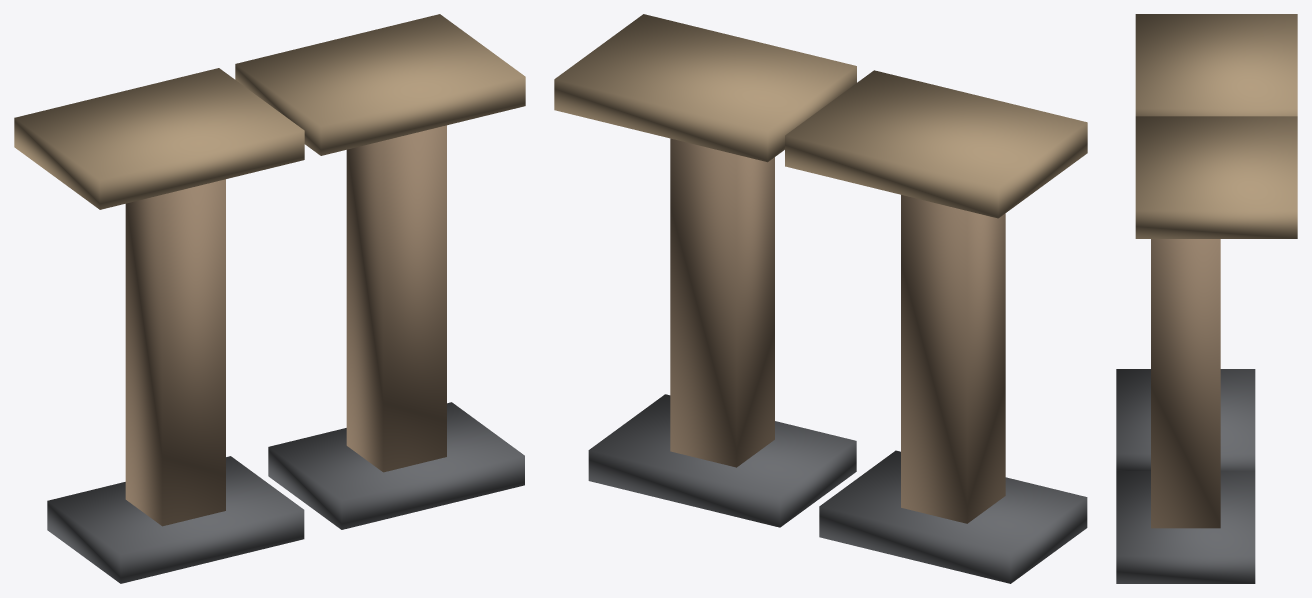
File: lectern__cluster.glb
3 renders of one model, left to right at view 1: azimuth 30°, elevation 25°; view 2: azimuth 150°, elevation 25°; view 3: azimuth 270°, elevation 25°, orthographic. The views are drawn at different scales.
Visible parts, largest first — view 1: world; view 2: world; view 3: world.
Part boxes in pixels (<box>): world: <box>14,14,525,583</box>; world: <box>554,14,1087,583</box>; world: <box>1116,14,1297,583</box>.
Size of the model in its own units: 1.21 by 1.08 by 0.47.
